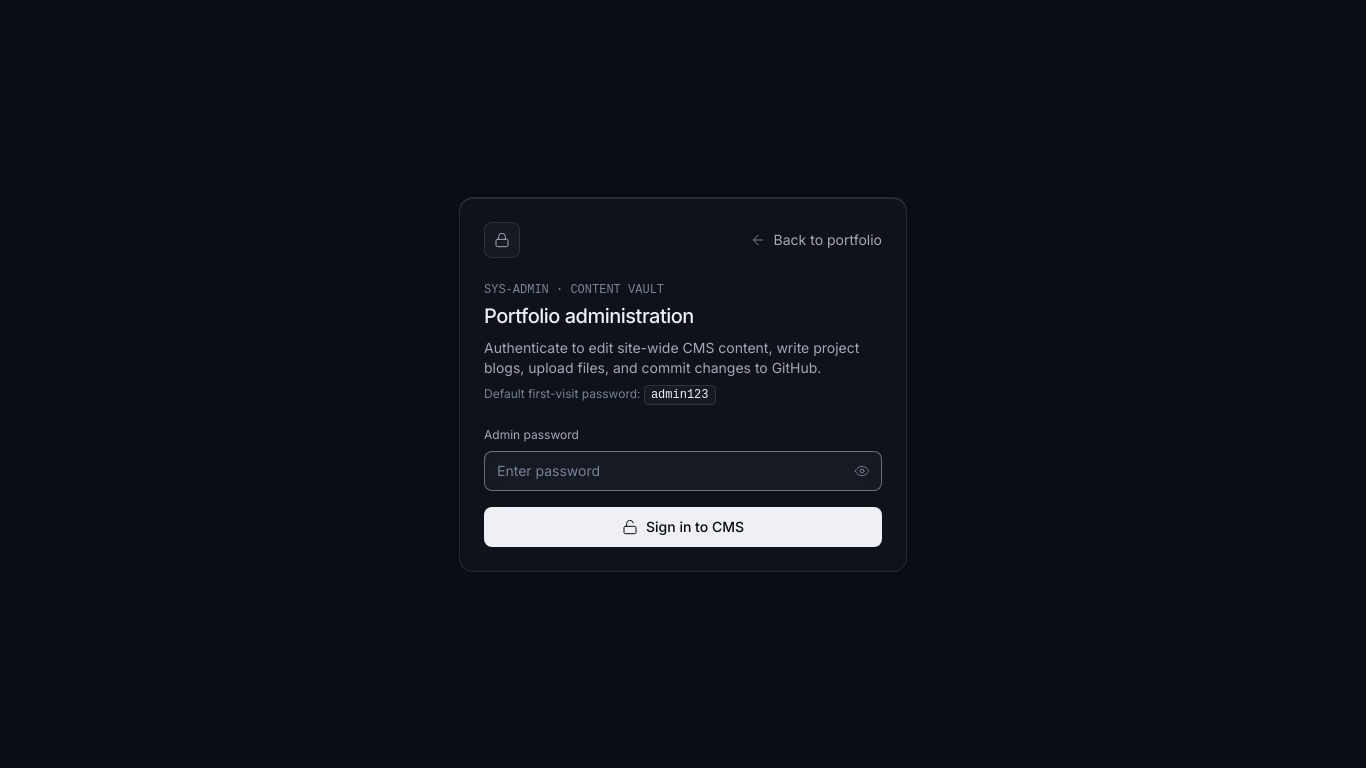
Test: M4 Stress Tests › verifies hero project selector project deletion pruning
The image size is (1366, 768).
Type "admin123" into the password field with placeholder "Enter password".
click(683, 470); type("admin123")  # box [484,450,882,490]
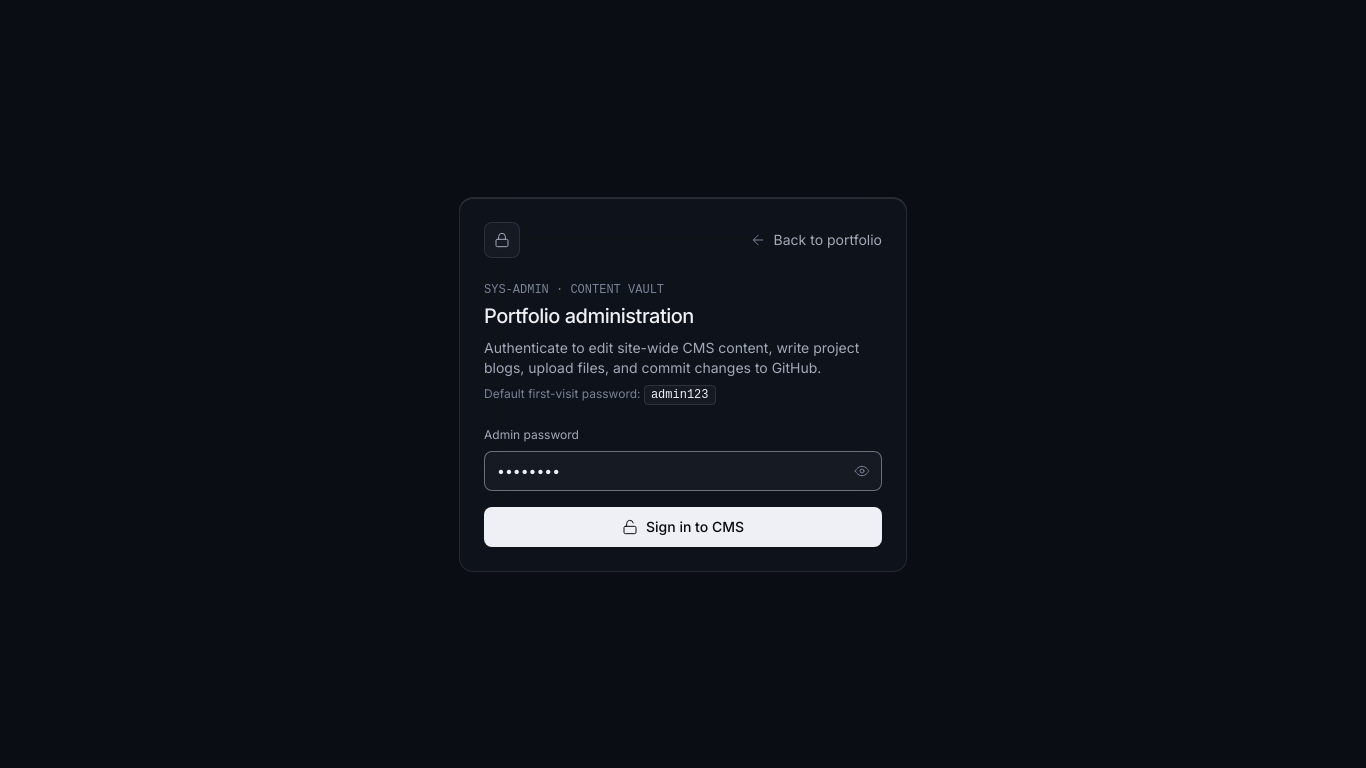
Click the button "Sign in to CMS".
click(683, 526)  # box [484,506,882,546]
(page scrolled)
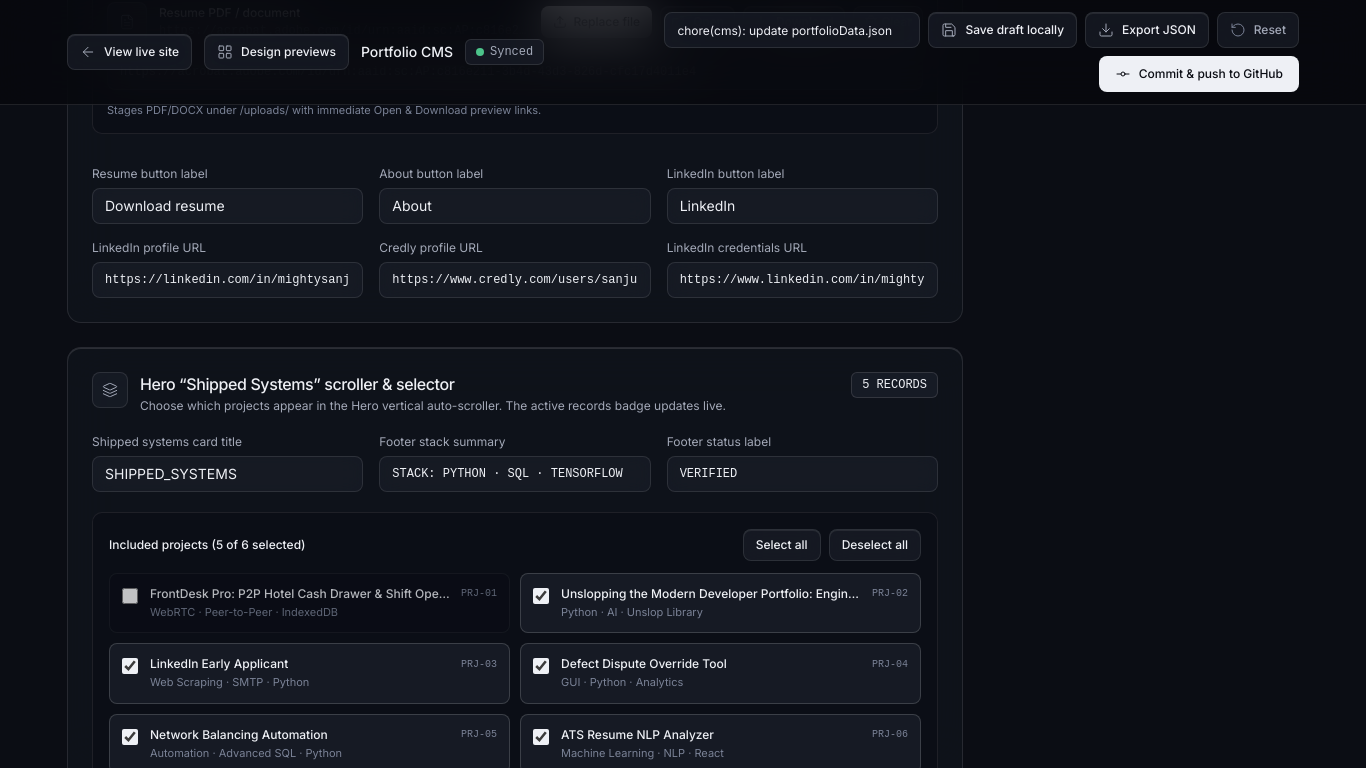
Expected: the text "5 RECORDS" is shown, [851,372,938,398]
